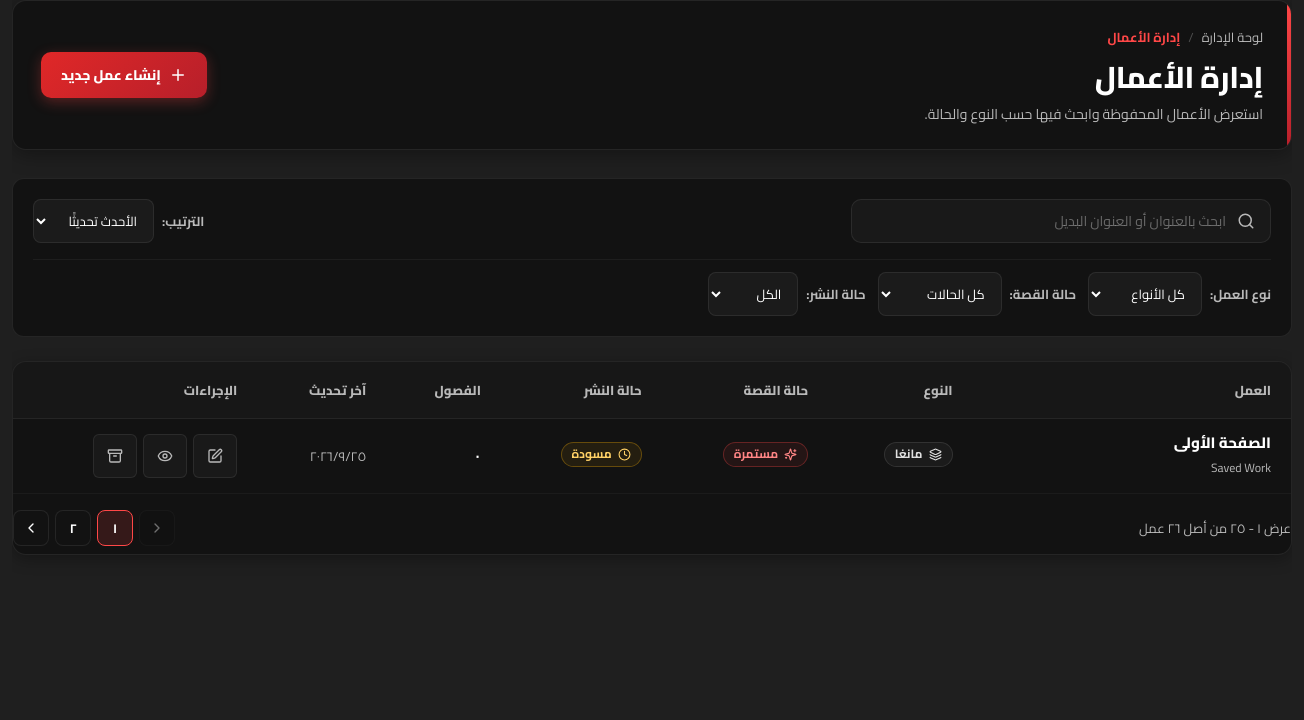
Test: saved administrative works › moves between server pages without reusing the previous page's rows
Expected: the text "الصفحة الأولى" is shown, [1174,433,1271,452]
Click the button named "الصفحة التالية".
click(31, 528)  # box [13,510,49,546]
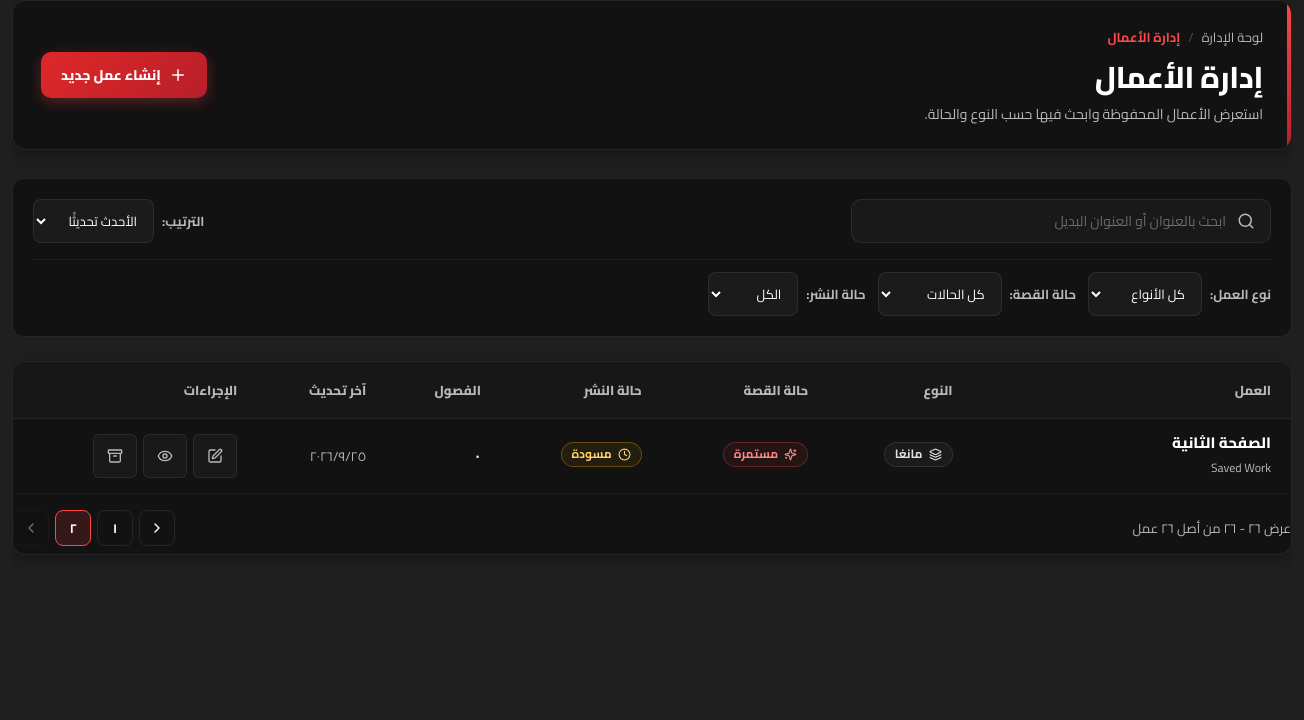
Result: the text "الصفحة الثانية" is shown at [1172,433,1271,452]
Result: the text "الصفحة الأولى" is gone
